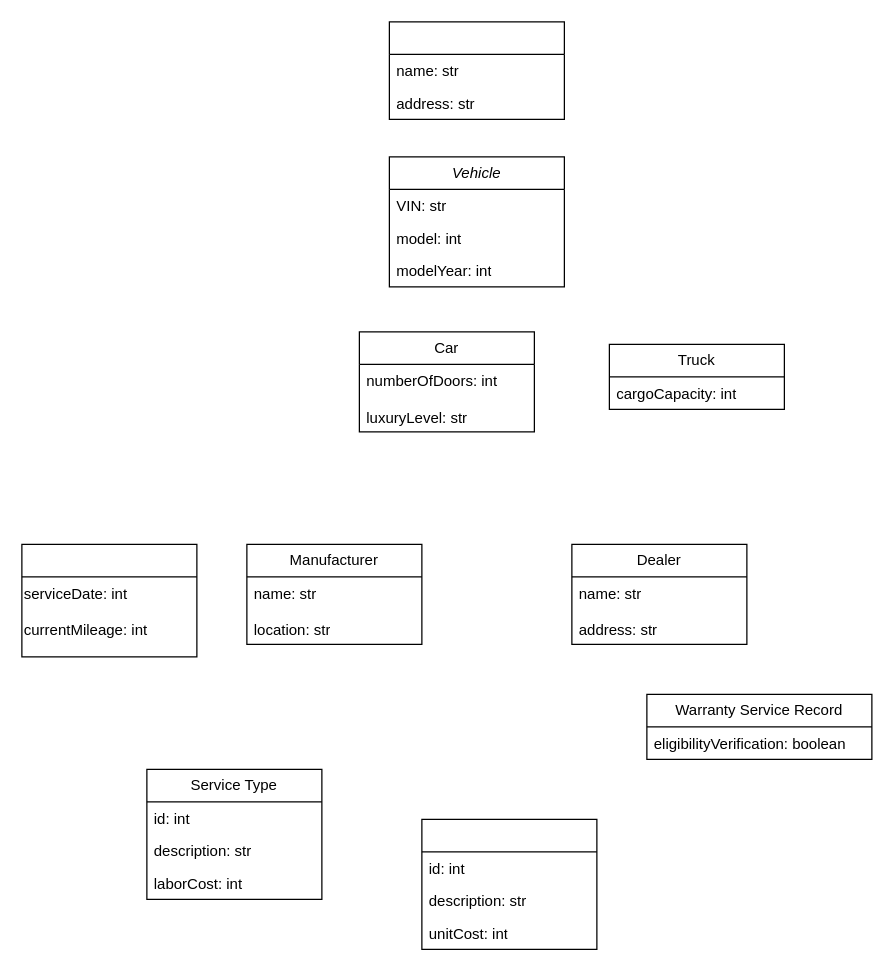
Image size: 894x975. Some labels were removed from this diagram. Here are the shapes that lost their labels. From the top down, the box of each, then its label:
(388, 21, 564, 119): Owner
(21, 543, 197, 657): Service Record
(421, 818, 597, 949): Part
